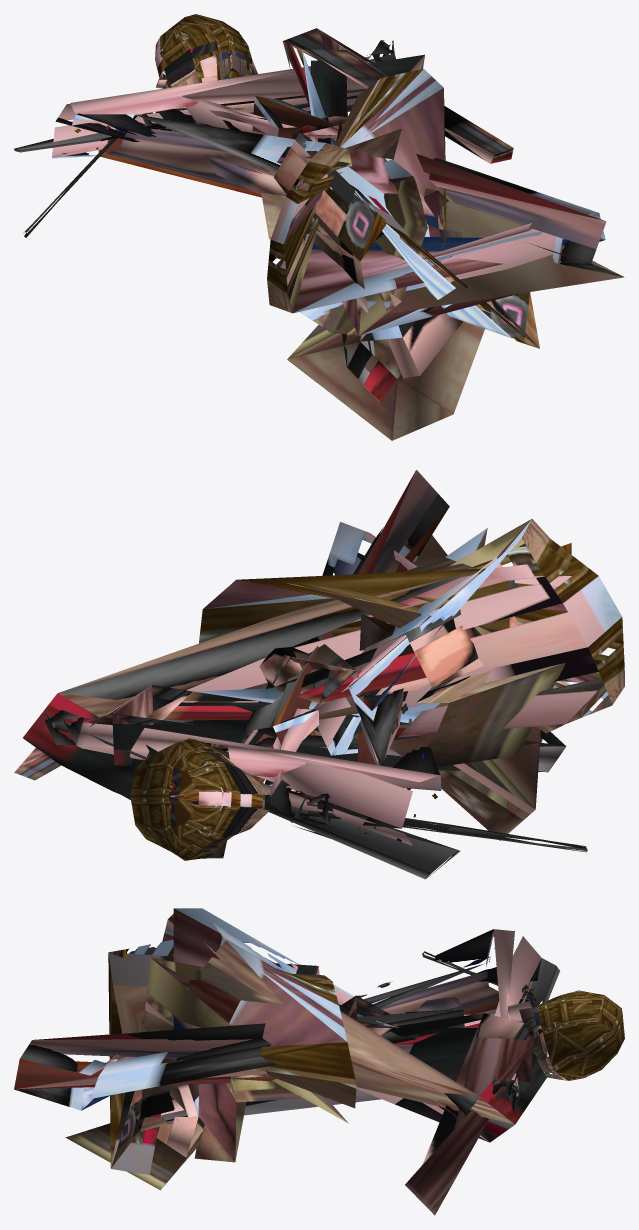
The picture shows the model from 3 angles, top to bottom: view 1: azimuth 30°, elevation 25°; view 2: azimuth 150°, elevation 25°; view 3: azimuth 270°, elevation 25°; orthographic projection. The views are drawn at different scales.
Parts seen in each view (by area): view 1: T1L1M002_15; view 2: T1L1M002_15; view 3: T1L1M002_15.
Part boxes in pixels (left/top/right/bottom): T1L1M002_15: left=14, top=14, right=624, bottom=440; T1L1M002_15: left=14, top=470, right=624, bottom=879; T1L1M002_15: left=14, top=908, right=624, bottom=1215.
Size of the model in its own units: 1.5 by 0.8523 by 1.77.
